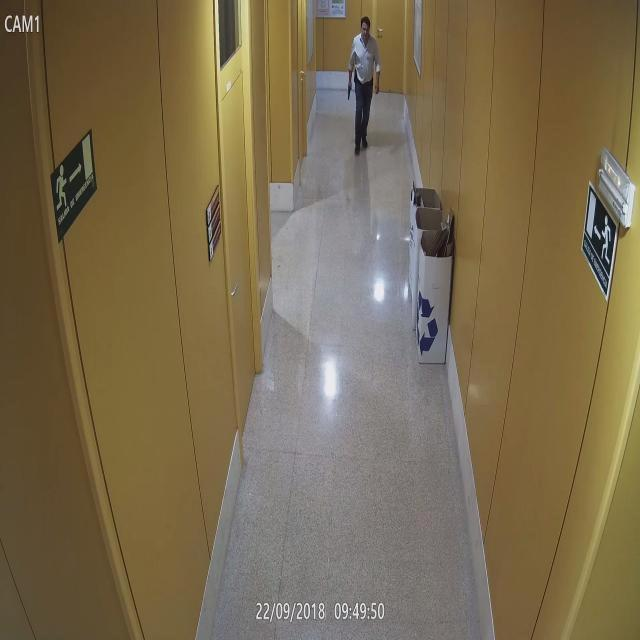weapon: (345, 84, 353, 100)
